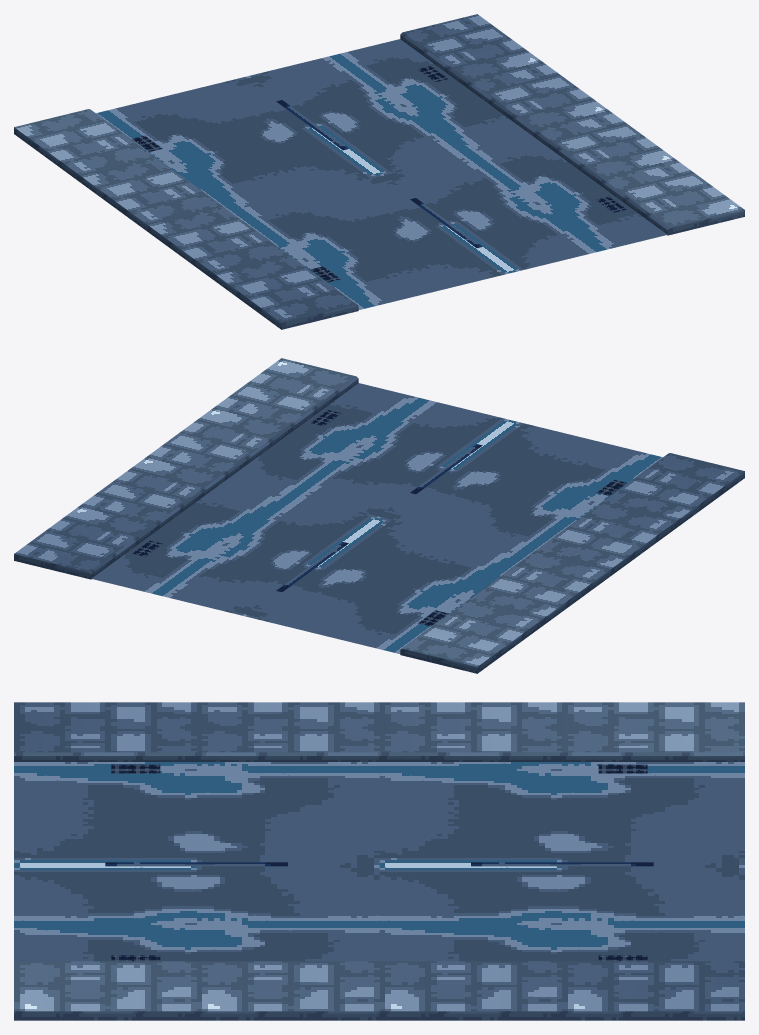
The model's file is cystreet.road__long.glb.
The picture shows the model from 3 angles, top to bottom: view 1: azimuth 30°, elevation 25°; view 2: azimuth 150°, elevation 25°; view 3: azimuth 270°, elevation 25°; orthographic projection. The views are drawn at different scales.
Parts seen in each view (by area): view 1: kit_shell_road, kit_walks, kit_card_paint; view 2: kit_shell_road, kit_walks, kit_card_paint; view 3: kit_shell_road, kit_walks, kit_card_paint.
Part boxes in pixels (x1,y1,x2,y2): kit_shell_road: (96, 39, 667, 309); kit_walks: (14, 14, 744, 329); kit_card_paint: (132, 66, 626, 282); kit_shell_road: (91, 383, 662, 653); kit_walks: (14, 358, 744, 673); kit_card_paint: (132, 410, 626, 626); kit_shell_road: (14, 762, 744, 961); kit_walks: (14, 702, 744, 1020); kit_card_paint: (105, 764, 653, 961).
Size of the model in its own units: 12 by 0.17 by 12.
Materials: 5 (5 with a texture image).
